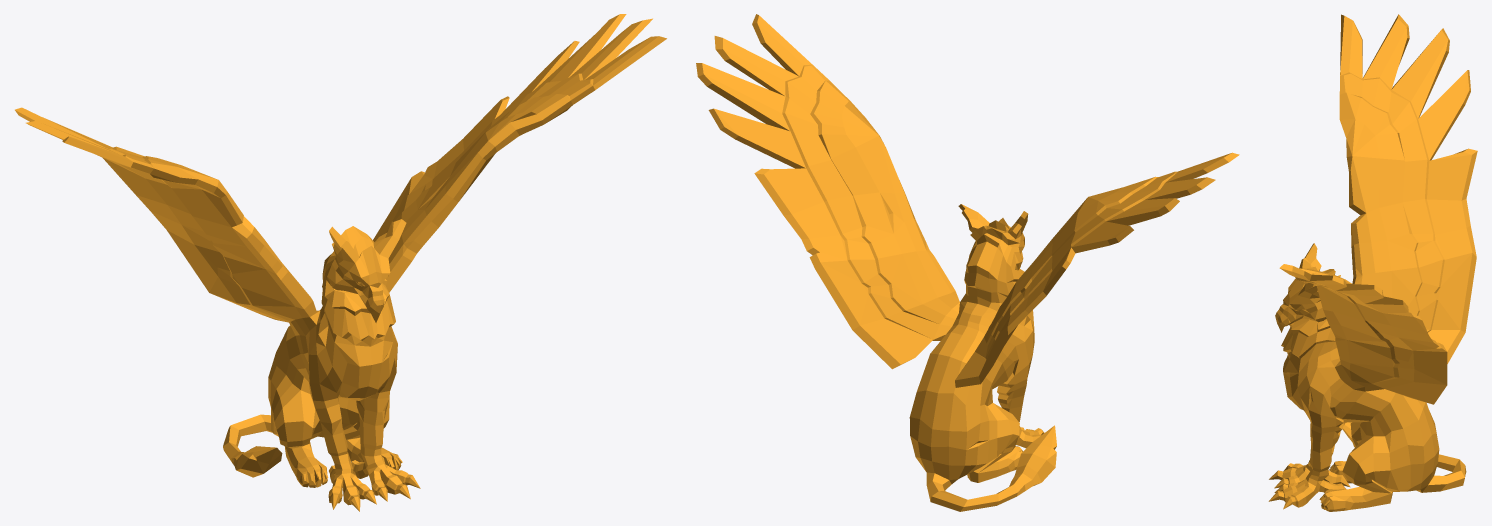
File: SM_Statue_Gryphon_B_Fantasy.fbx
The picture shows the model from 3 angles, left to right: view 1: azimuth 30°, elevation 25°; view 2: azimuth 150°, elevation 25°; view 3: azimuth 270°, elevation 25°; orthographic projection. The views are drawn at different scales.
Parts seen in each view (by area): view 1: SM_Statue_Gryphon_Fantasy_B; view 2: SM_Statue_Gryphon_Fantasy_B; view 3: SM_Statue_Gryphon_Fantasy_B.
Part boxes in pixels (left/top/right/bottom): SM_Statue_Gryphon_Fantasy_B: left=15, top=14, right=666, bottom=511; SM_Statue_Gryphon_Fantasy_B: left=696, top=14, right=1239, bottom=511; SM_Statue_Gryphon_Fantasy_B: left=1268, top=14, right=1477, bottom=511.
Bounding box in the file's own units: 6.03 × 3.94 × 2.09.
